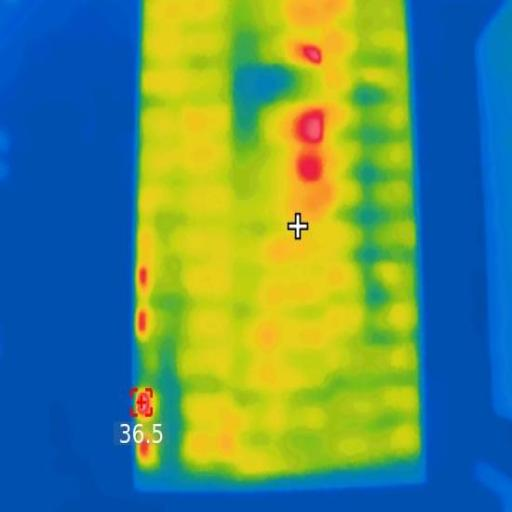hotspot: (294, 111, 330, 144), (292, 149, 327, 182), (302, 39, 328, 67), (135, 388, 156, 418), (136, 312, 152, 344), (135, 262, 152, 287), (131, 438, 149, 460)
